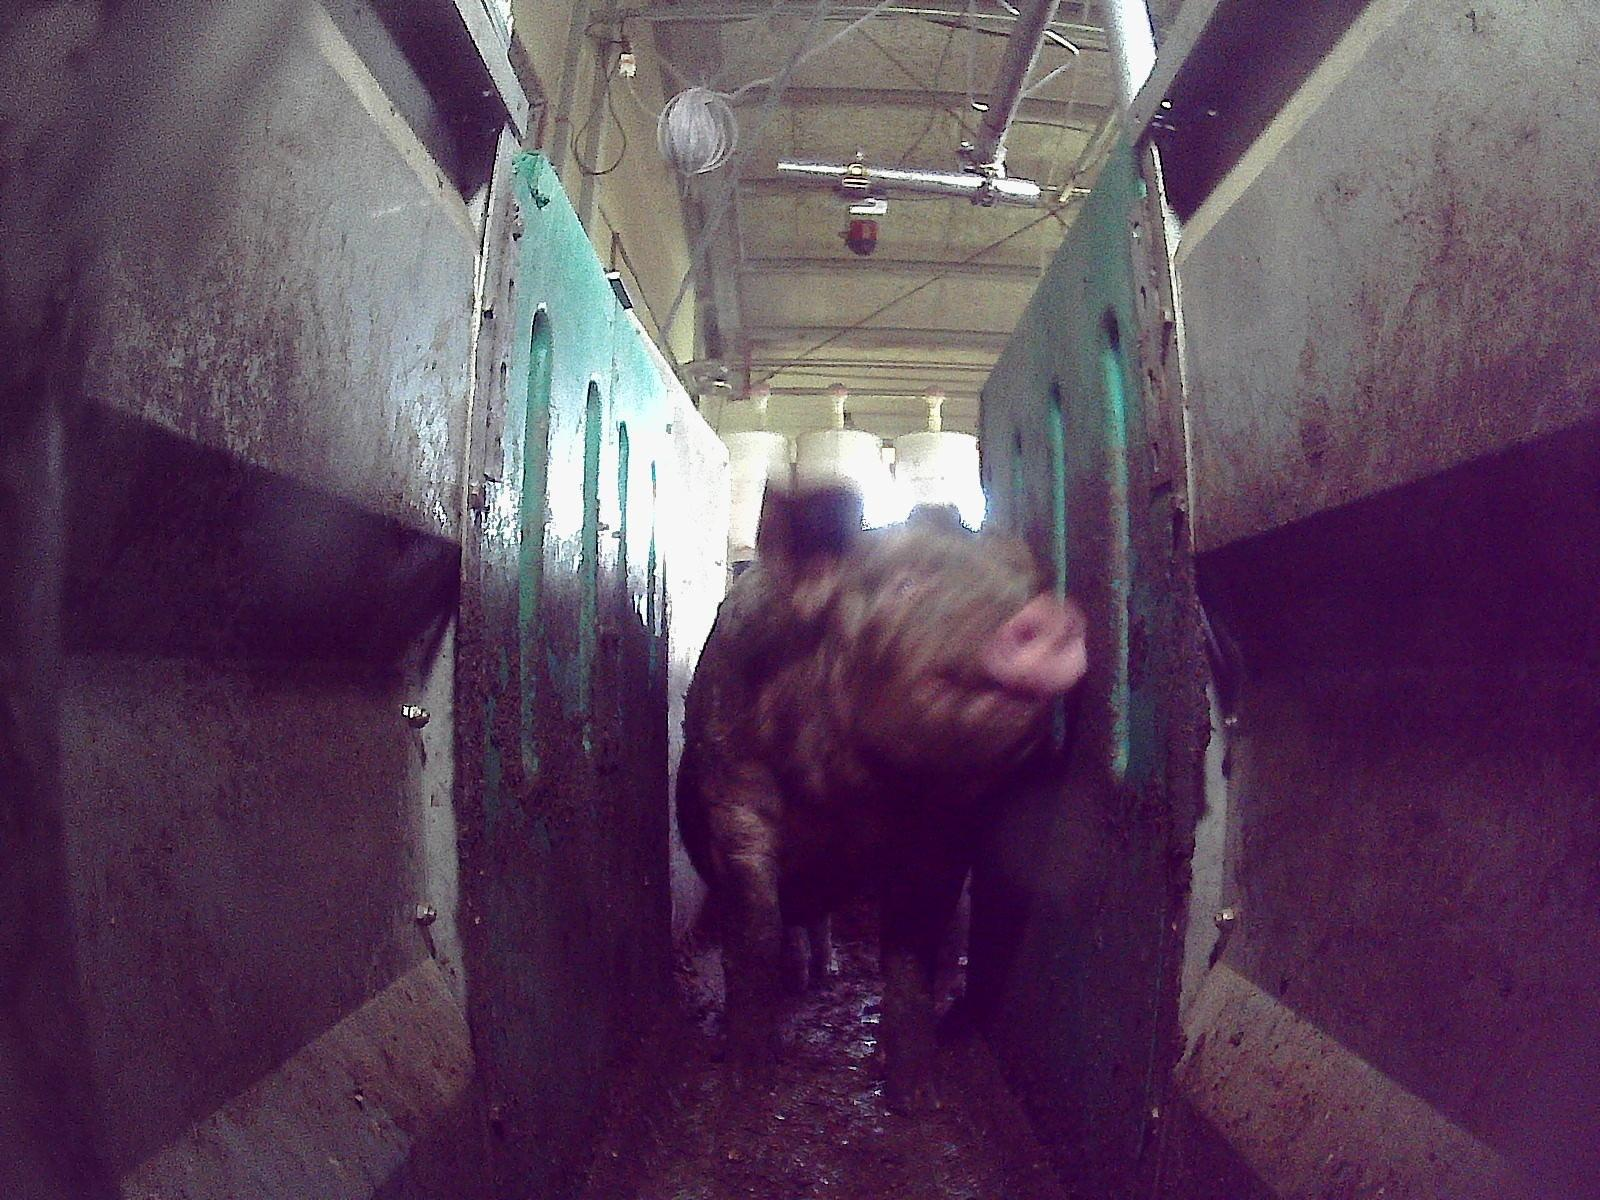Face: (823, 528, 1084, 774)
